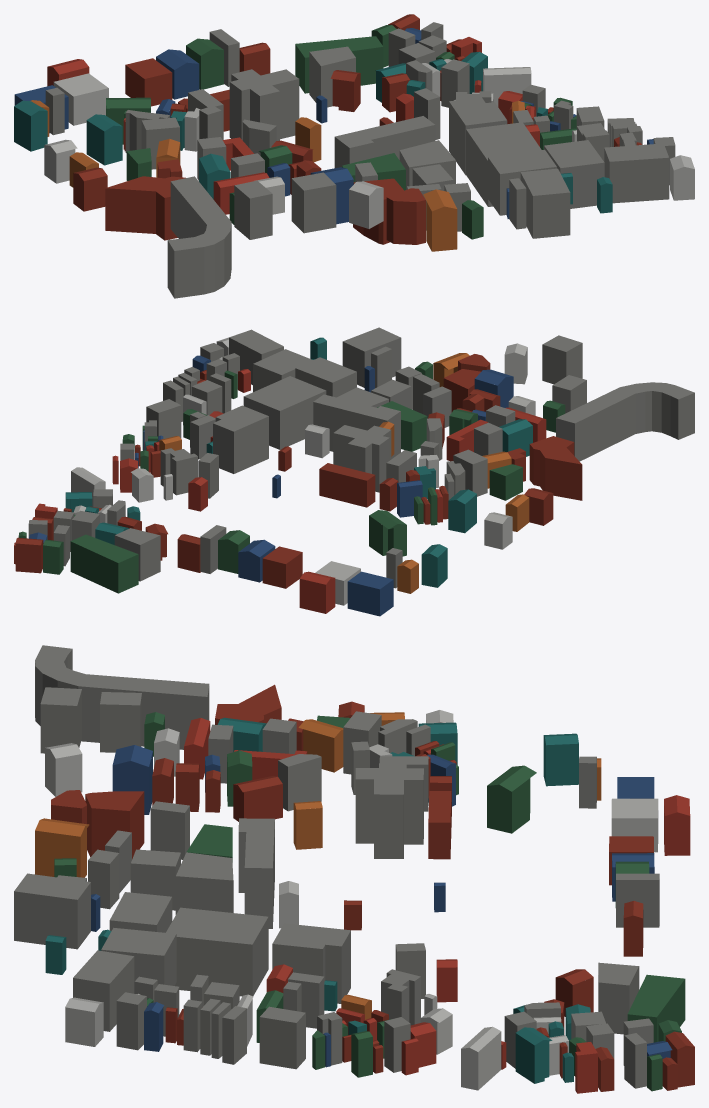
File: near-17-109442-59473.c257b6b4.glb
3 views of the same model, one above another, from view 1: azimuth 30°, elevation 25°; view 2: azimuth 150°, elevation 25°; view 3: azimuth 270°, elevation 25° (orthographic). The views are drawn at different scales.
Size of the model in its own units: 331 by 91.44 by 311.
